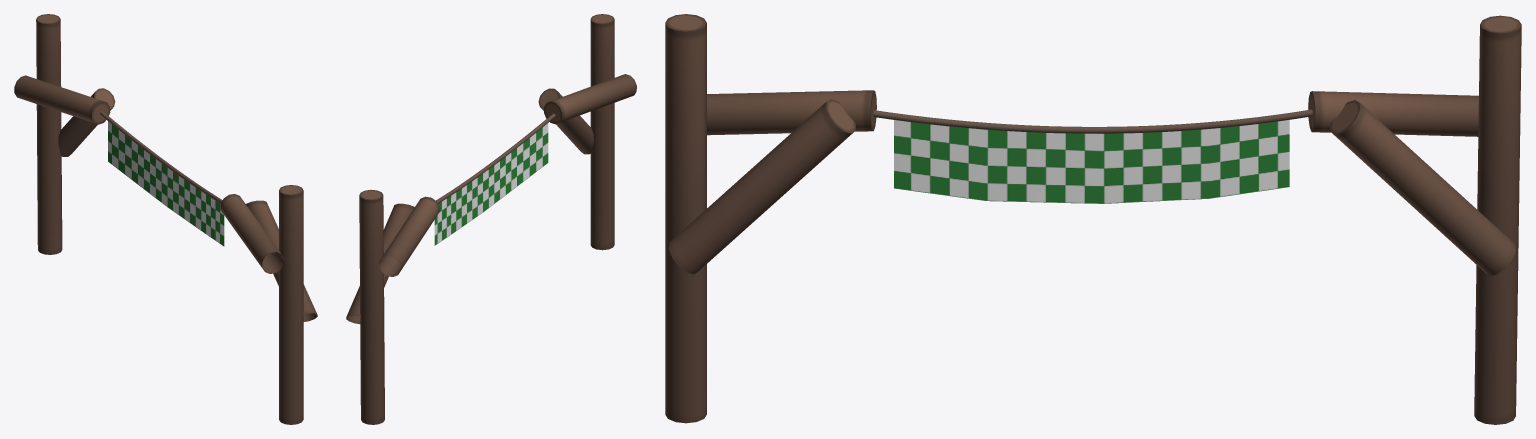
The model's file is Meta.fbx.
3 renders of one model, left to right at view 1: azimuth 30°, elevation 25°; view 2: azimuth 150°, elevation 25°; view 3: azimuth 270°, elevation 25°, orthographic. The views are drawn at different scales.
Visible parts, largest first — view 1: Cylinder.008, Plane.004, NurbsPath.001; view 2: Cylinder.008, Plane.004, NurbsPath.001; view 3: Cylinder.008, Plane.004, NurbsPath.001.
Boxes of the visible parts, <box> form: Cylinder.008: <box>14,14,317,424</box>; Plane.004: <box>108,121,224,246</box>; NurbsPath.001: <box>100,111,222,203</box>; Cylinder.008: <box>346,14,636,424</box>; Plane.004: <box>434,123,548,245</box>; NurbsPath.001: <box>436,113,555,203</box>; Cylinder.008: <box>665,14,1521,424</box>; Plane.004: <box>894,120,1289,203</box>; NurbsPath.001: <box>873,109,1312,133</box>.
Bounding box in the file's own units: 252 × 929 × 1818.
